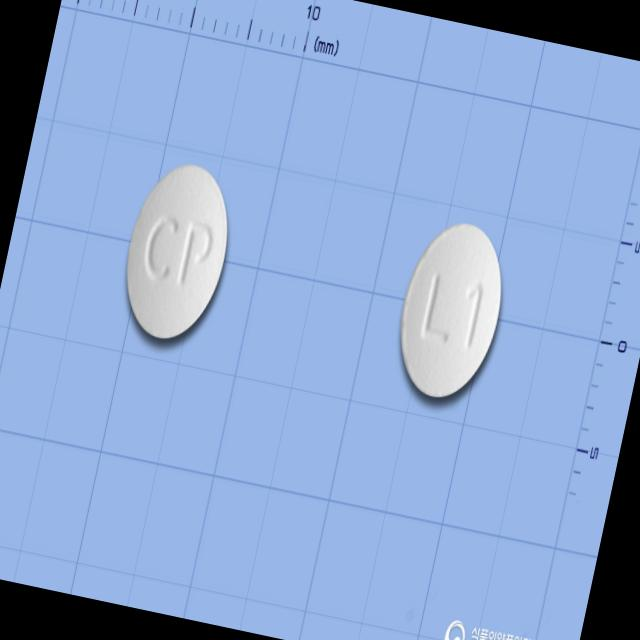Refloxin Tab: (384, 211, 516, 408), (111, 154, 243, 349)
